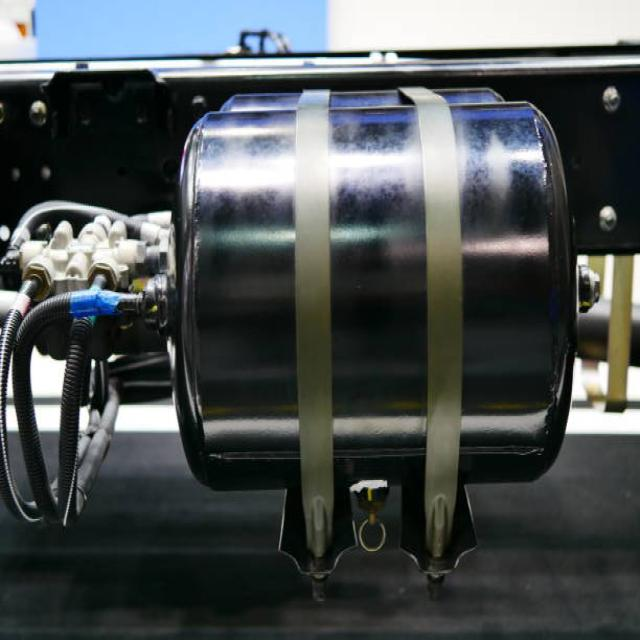compressor: (0, 68, 601, 604)
